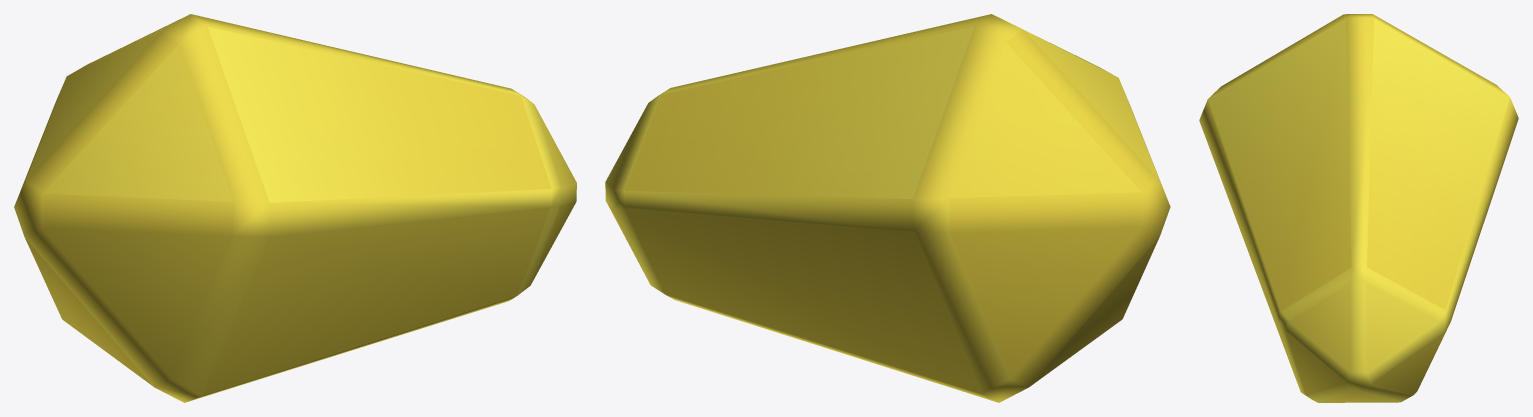
File: christal_topaz_3.fbx
The picture shows the model from 3 angles, left to right: view 1: azimuth 30°, elevation 25°; view 2: azimuth 150°, elevation 25°; view 3: azimuth 270°, elevation 25°; orthographic projection. The views are drawn at different scales.
Parts seen in each view (by area): view 1: christal_topaz_3; view 2: christal_topaz_3; view 3: christal_topaz_3.
Boxes of the visible parts, x1=… form: christal_topaz_3: x1=14, y1=14, x2=576, y2=402; christal_topaz_3: x1=605, y1=14, x2=1170, y2=402; christal_topaz_3: x1=1199, y1=14, x2=1518, y2=402.
Size of the model in its own units: 69.47 by 39.84 by 42.77.
Materials: 1 (1 with a texture image).
